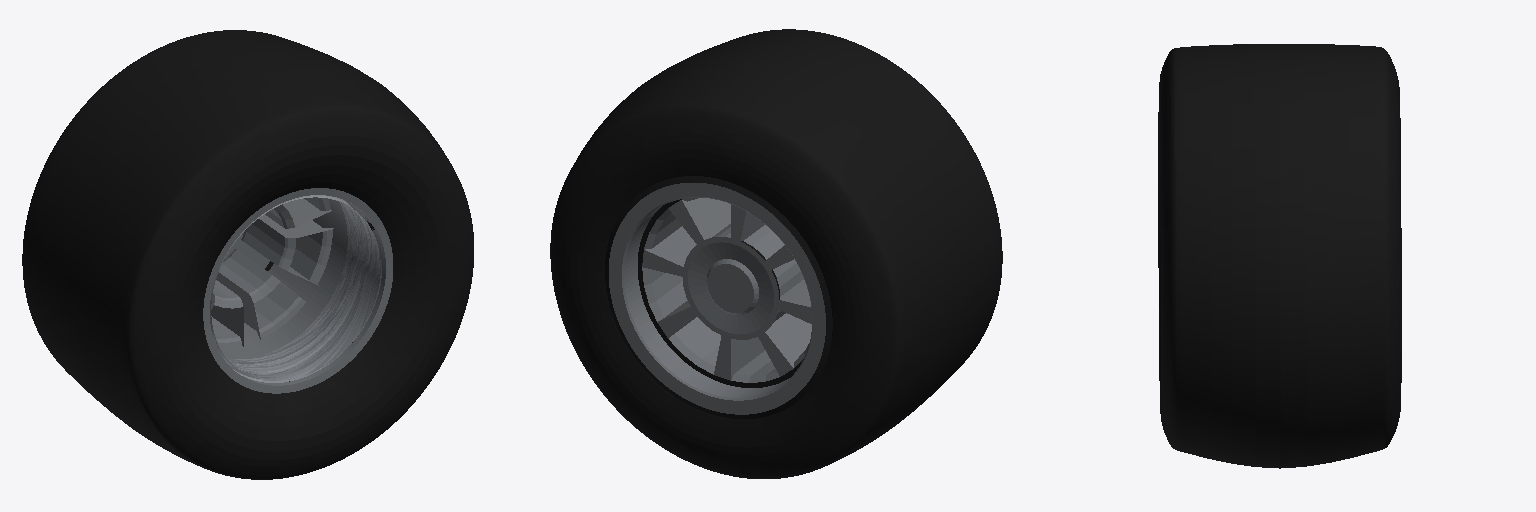
3 renders of one model, left to right at view 1: azimuth 30°, elevation 25°; view 2: azimuth 150°, elevation 25°; view 3: azimuth 270°, elevation 25°, orthographic.
Parts seen in each view (by area): view 1: front_wheels_right_Rim_inner.001_Circle; view 2: front_wheels_right_Rim_inner.001_Circle; view 3: front_wheels_right_Rim_inner.001_Circle.
Boxes of the visible parts, x1=… form: front_wheels_right_Rim_inner.001_Circle: x1=22, y1=30, x2=473, y2=479; front_wheels_right_Rim_inner.001_Circle: x1=550, y1=29, x2=1002, y2=478; front_wheels_right_Rim_inner.001_Circle: x1=1158, y1=44, x2=1401, y2=468.
Size of the model in its own units: 0.4238 by 0.4236 by 0.2426.
Materials: 1 (1 with a texture image).